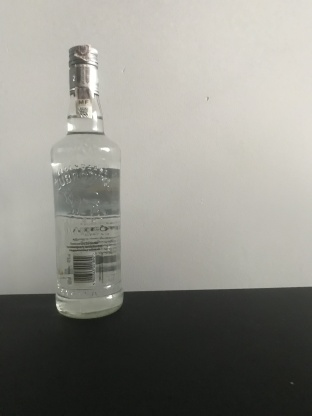nakretka: (66, 43, 100, 98)
